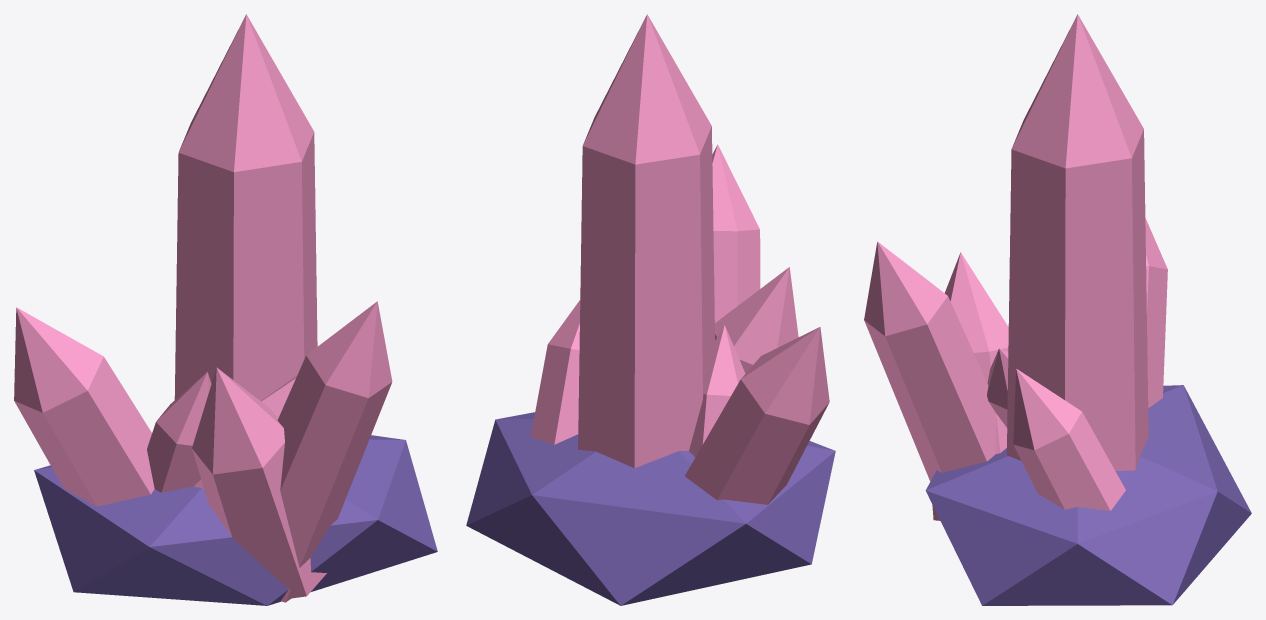
The model's file is Plateau_Crystals2.fbx.
The picture shows the model from 3 angles, left to right: view 1: azimuth 30°, elevation 25°; view 2: azimuth 150°, elevation 25°; view 3: azimuth 270°, elevation 25°; orthographic projection. The views are drawn at different scales.
Visible parts, largest first — view 1: Plateau_Crystals2; view 2: Plateau_Crystals2; view 3: Plateau_Crystals2.
Part boxes in pixels (bbox=[...]): Plateau_Crystals2: bbox=[14, 14, 437, 605]; Plateau_Crystals2: bbox=[466, 14, 835, 605]; Plateau_Crystals2: bbox=[864, 14, 1251, 605].
Size of the model in its own units: 2.04 by 3.11 by 1.92.
